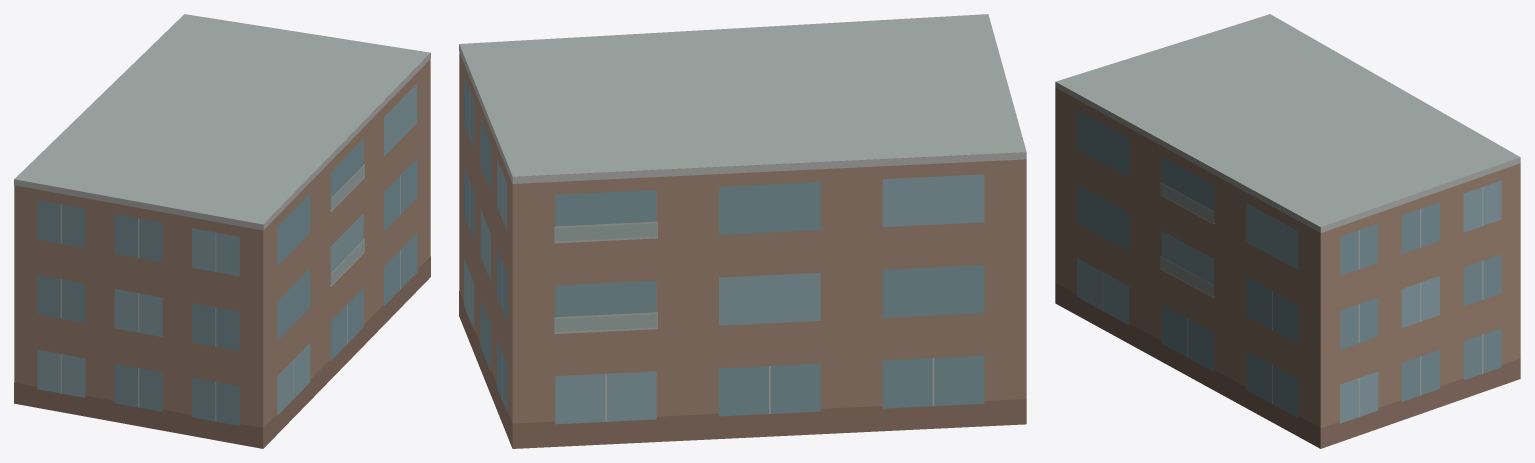
Rendered from survey-upis-32924524.glb.
3 renders of one model, left to right at view 1: azimuth 30°, elevation 25°; view 2: azimuth 150°, elevation 25°; view 3: azimuth 270°, elevation 25°, orthographic. The views are drawn at different scales.
Parts seen in each view (by area): view 1: survey-upis-32924524.tmp; view 2: survey-upis-32924524.tmp; view 3: survey-upis-32924524.tmp.
Boxes of the visible parts, x1=… form: survey-upis-32924524.tmp: x1=14, y1=14, x2=430, y2=448; survey-upis-32924524.tmp: x1=459, y1=14, x2=1026, y2=448; survey-upis-32924524.tmp: x1=1055, y1=14, x2=1520, y2=448.
Bounding box in the file's own units: 18.88 × 9.15 × 17.42.
